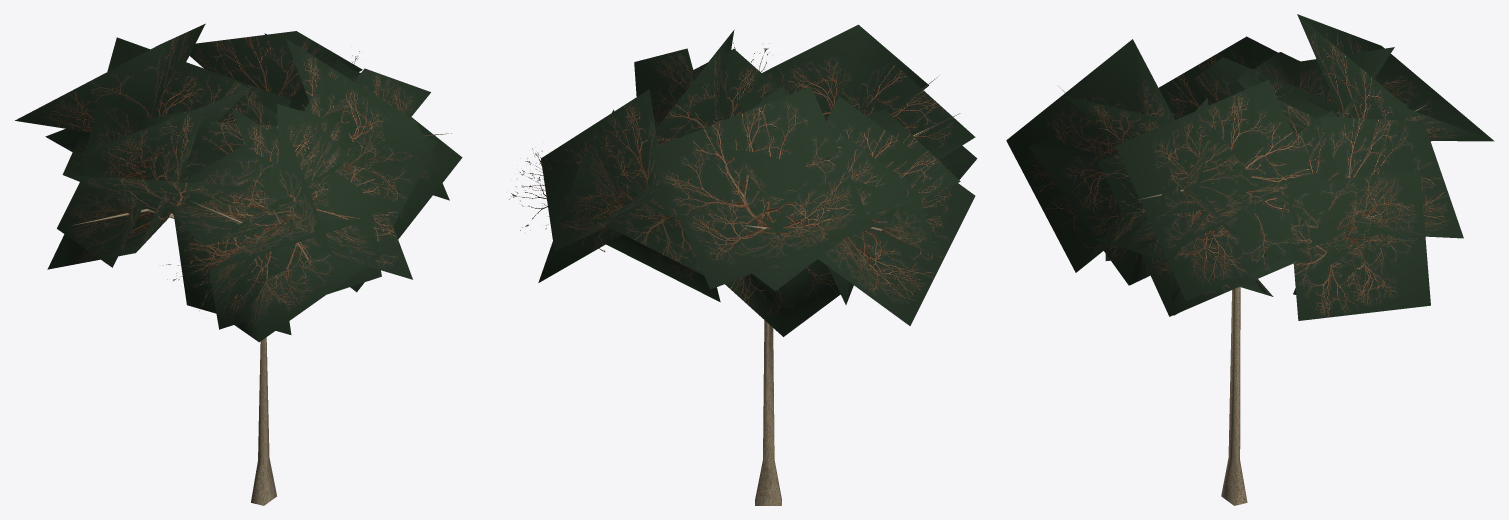
File: decd_mapletreebranches_a1_l1.fbx
The picture shows the model from 3 angles, left to right: view 1: azimuth 30°, elevation 25°; view 2: azimuth 150°, elevation 25°; view 3: azimuth 270°, elevation 25°; orthographic projection.
Parts seen in each view (by area): view 1: mesh_node; view 2: mesh_node; view 3: mesh_node.
Part boxes in pixels (left/top/right/bottom): mesh_node: left=15, top=23, right=462, bottom=505; mesh_node: left=509, top=24, right=977, bottom=505; mesh_node: left=1006, top=14, right=1494, bottom=505.
Size of the model in its own units: 17.13 by 18.7 by 18.41.
